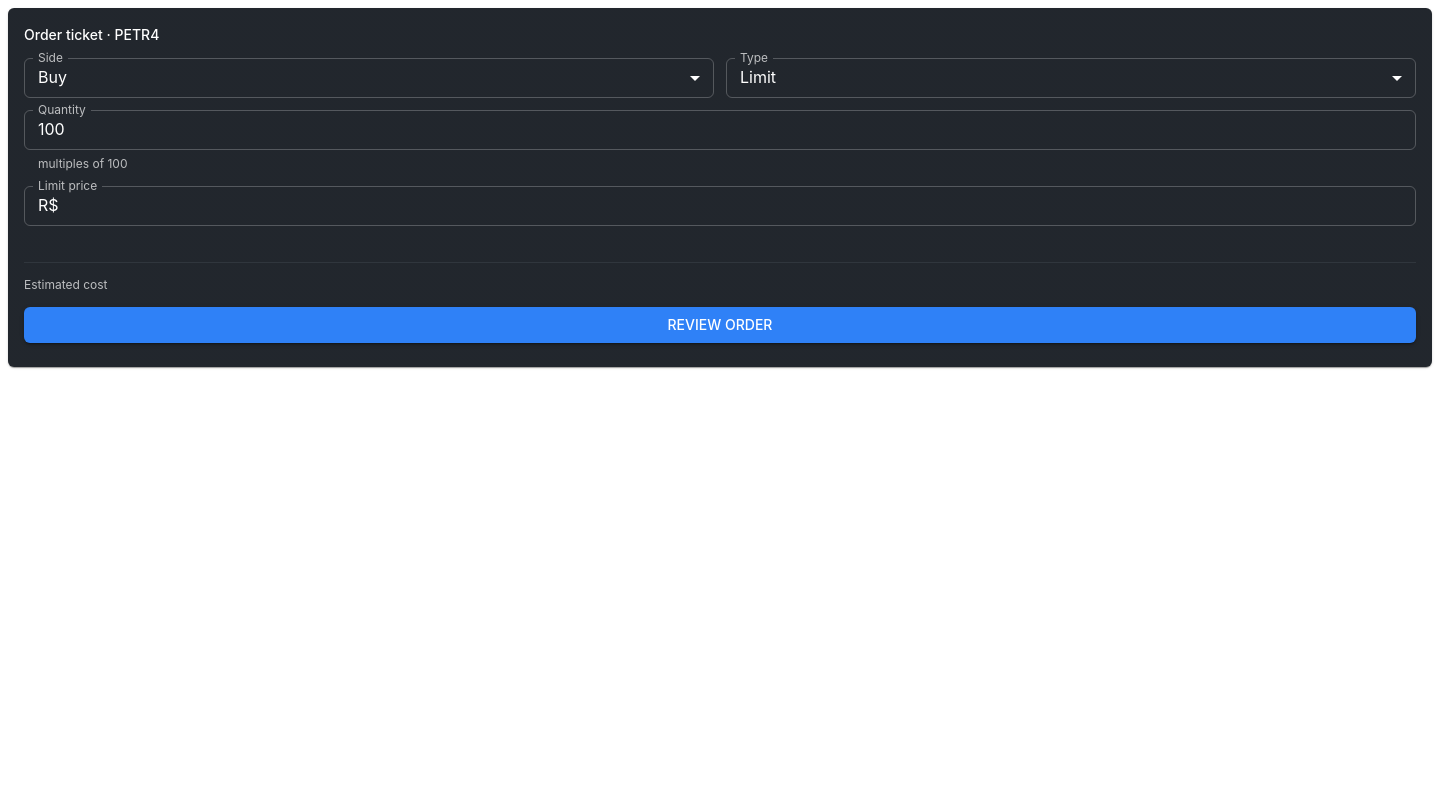
Test case: submitting › says the order was already submitted on a replay
Type "3850" into the field labelled "Limit price".
click(741, 206); type("3850")  # box [67,186,1416,226]
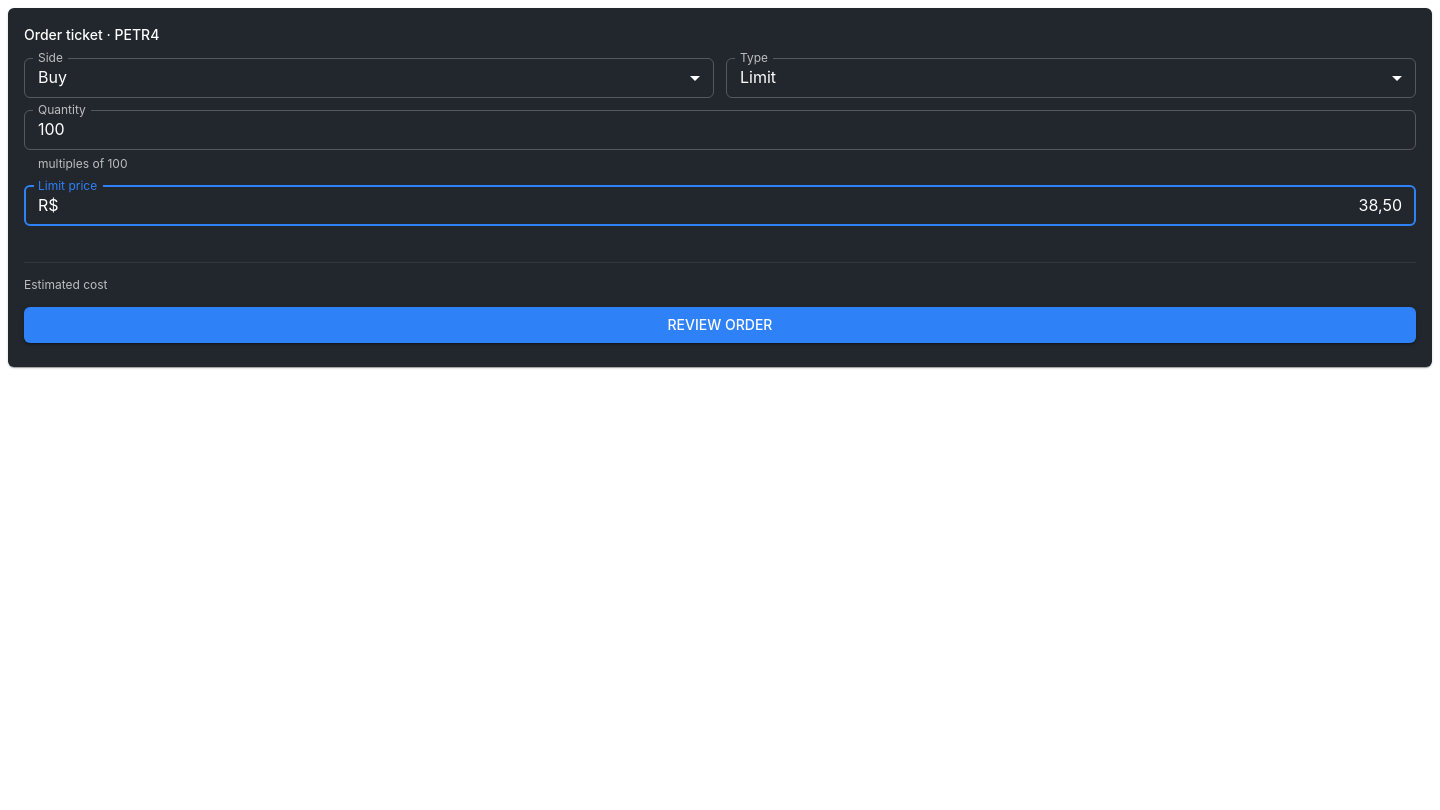
Click the button "Review order".
click(720, 325)  # box [24,307,1416,343]
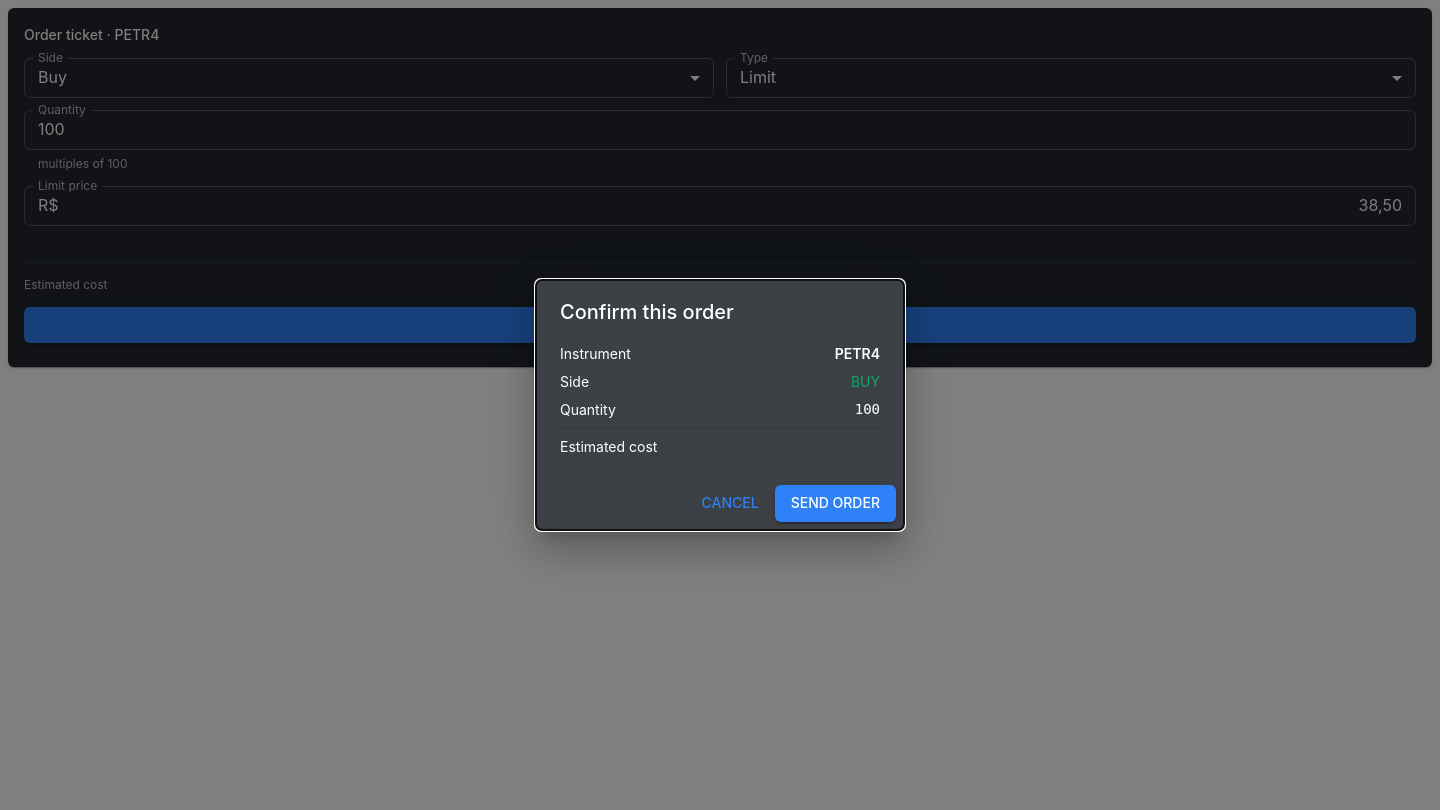
Click the button "Send order".
click(835, 504)  # box [775,485,896,522]
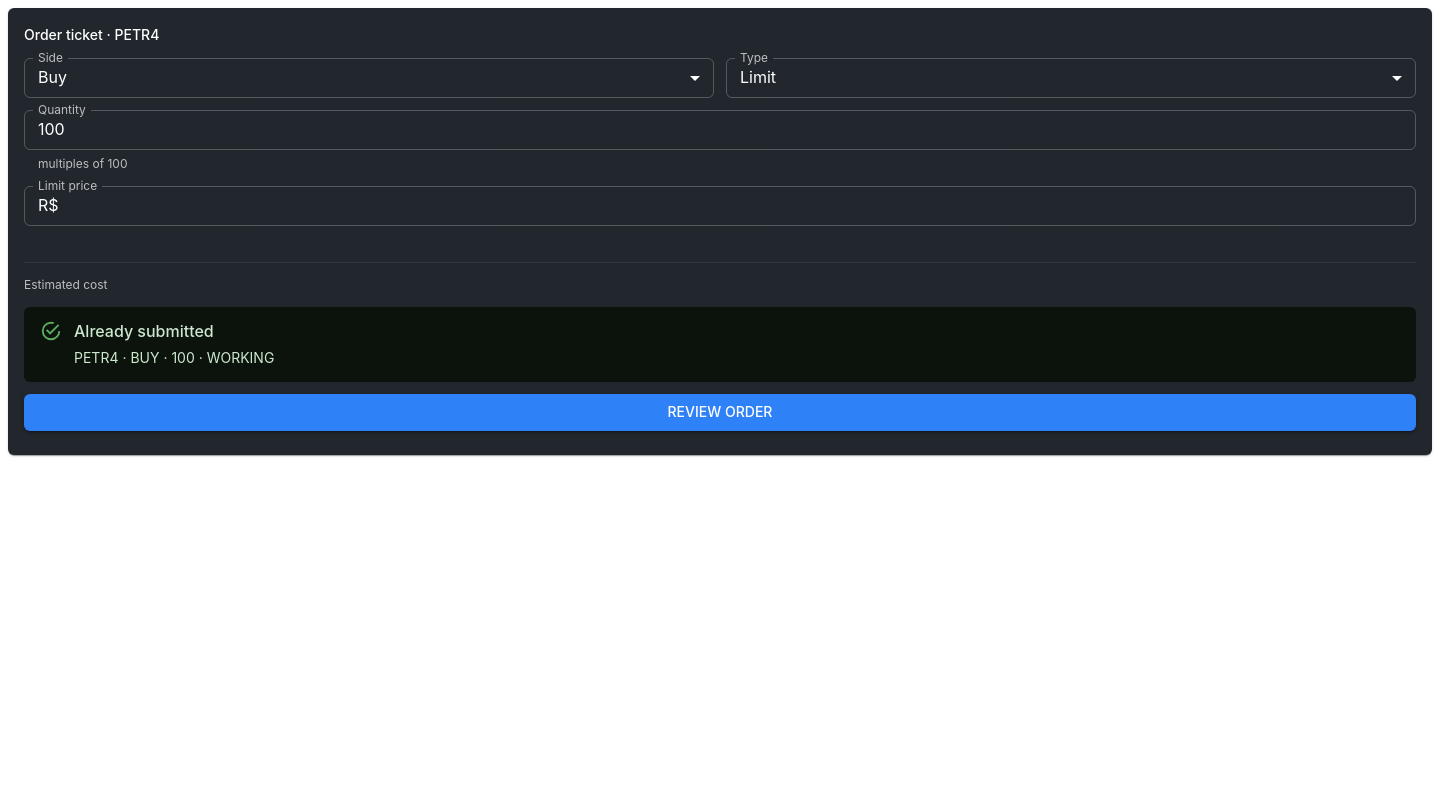
expect the text "Already submitted" is shown: met, box [74,321,214,341]
